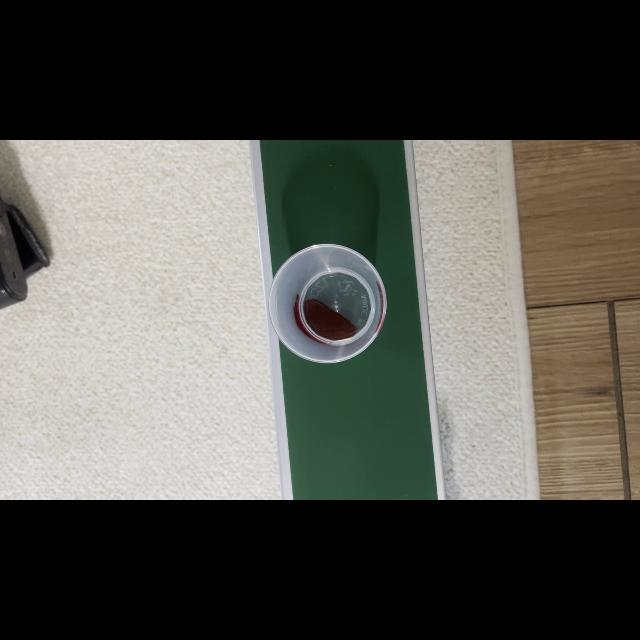dirty: (276, 256, 386, 360)
